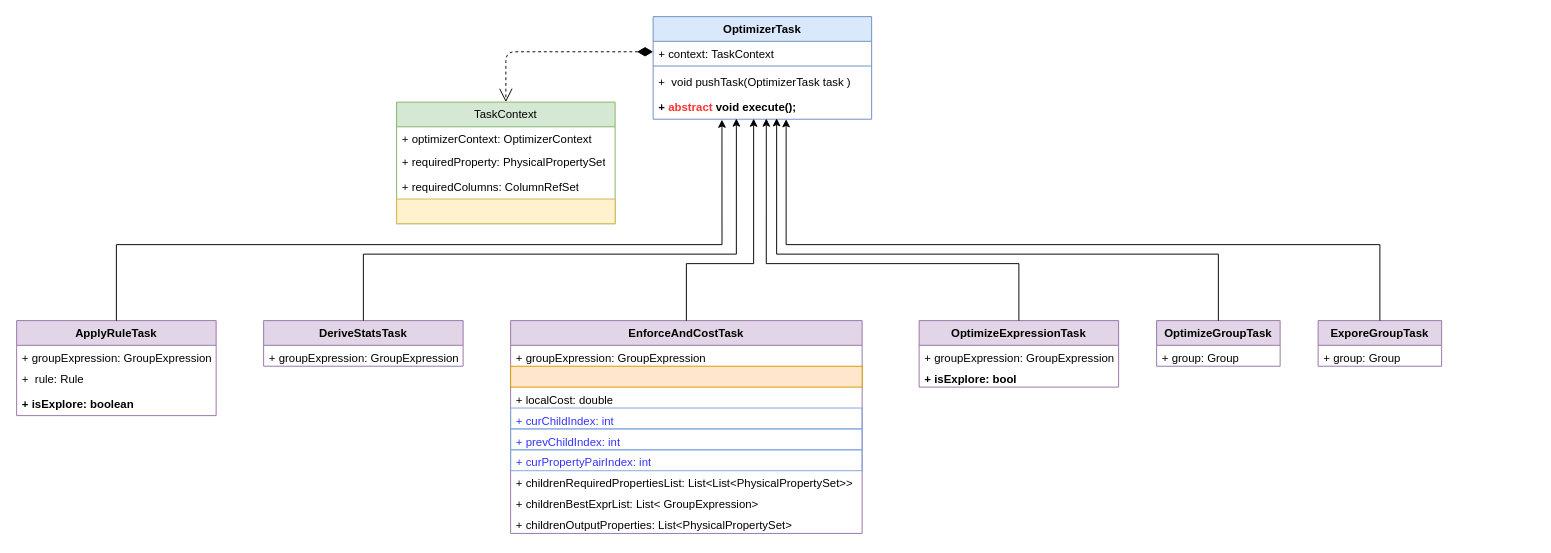
Some shapes in this 1551 by 553 pixel diagram are drawn without their labels. Here are the shapes that lost their labels. From the top down, the centre of each, then its label:
At (x=505, y=211): "+ upperBoundCost : double".
At (x=686, y=376): "+ curTotalCost : double".
